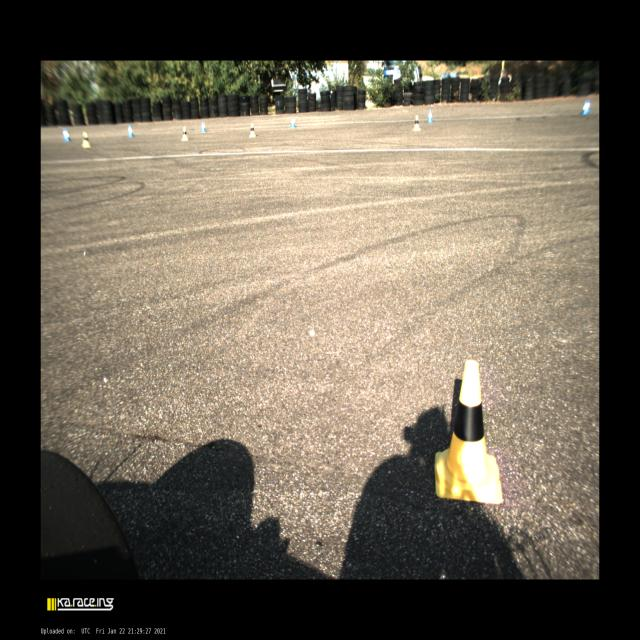blue_cone: (582, 100, 588, 115), (427, 110, 434, 122), (63, 129, 70, 141), (289, 116, 296, 127), (128, 125, 134, 137), (200, 121, 206, 132)
yellow_cone: (434, 360, 502, 504), (413, 115, 421, 131), (82, 132, 90, 147), (181, 126, 188, 141), (249, 123, 256, 137)
